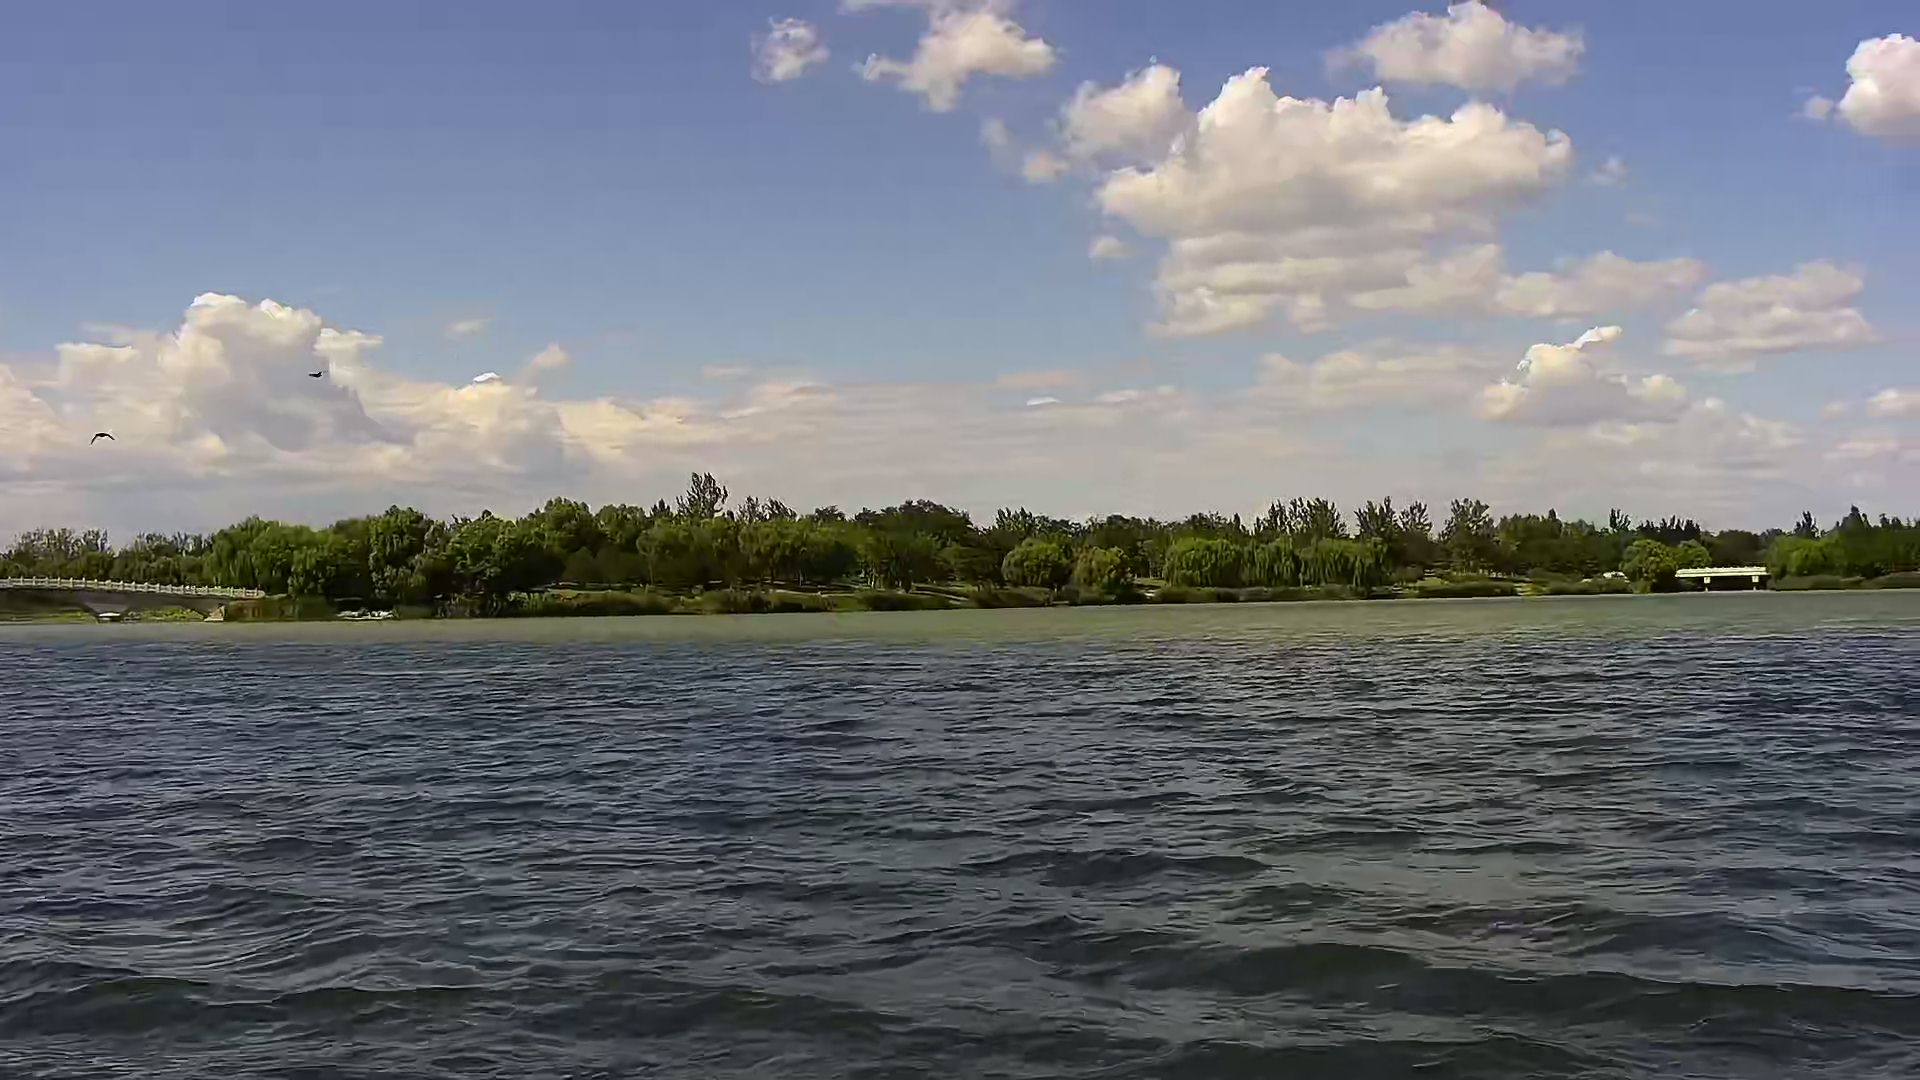bridge: (1, 572, 260, 633), (1669, 560, 1776, 599)
